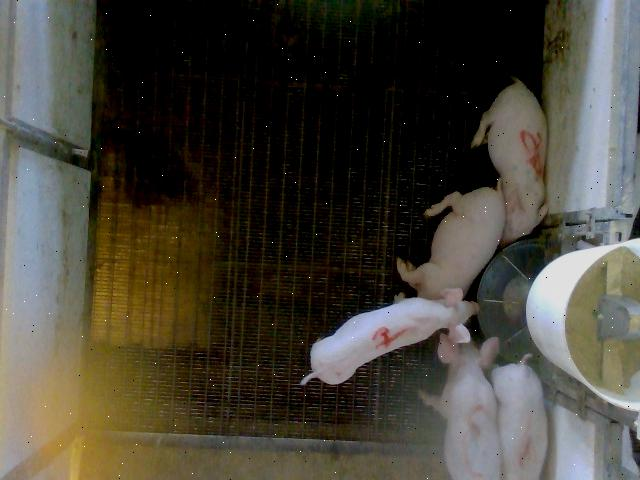pig-1: (491, 354, 548, 479)
pig-3: (439, 335, 501, 479)
pig-4: (301, 289, 478, 384)
pig-5: (471, 78, 548, 246)
